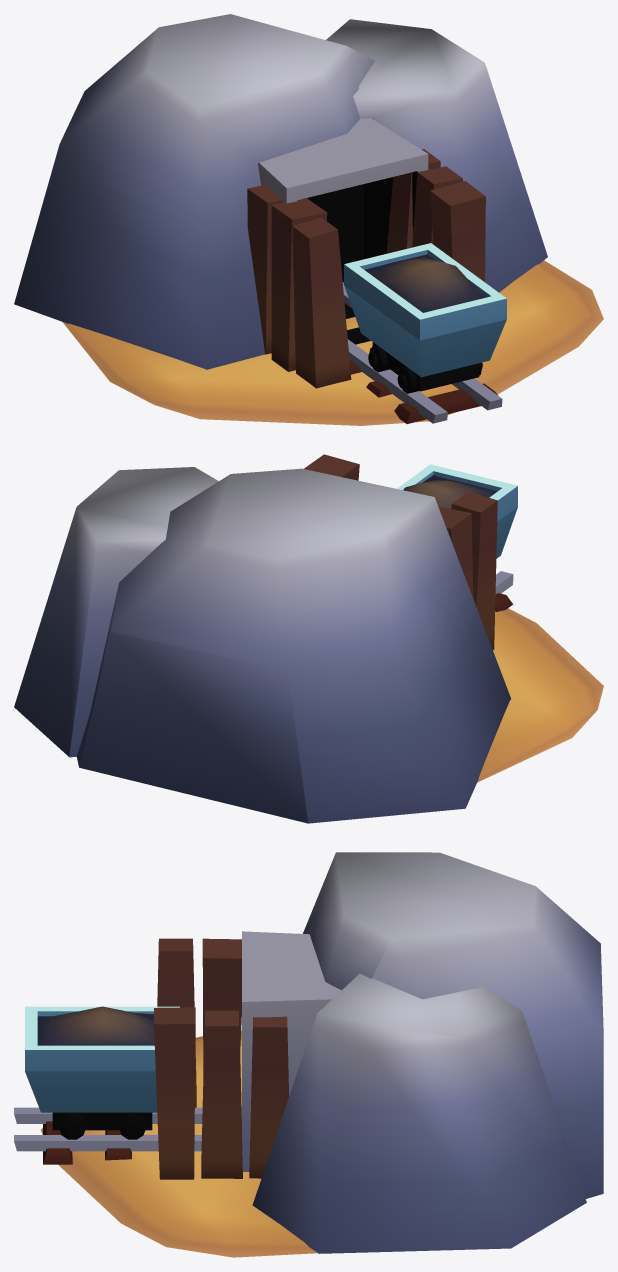
File: block_iron_mine_1_1.fbx
3 renders of one model, top to bottom at view 1: azimuth 30°, elevation 25°; view 2: azimuth 150°, elevation 25°; view 3: azimuth 270°, elevation 25°, orthographic. The views are drawn at different scales.
Parts seen in each view (by area): view 1: block_iron_mine_1_1; view 2: block_iron_mine_1_1; view 3: block_iron_mine_1_1.
Boxes of the visible parts, x1,y1,x2,y2 form: block_iron_mine_1_1: (14,14,603,425); block_iron_mine_1_1: (14,454,603,823); block_iron_mine_1_1: (14,852,603,1257).
Bounding box in the file's own units: 184 × 88.18 × 202.
